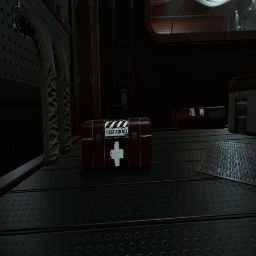FirstAidBox ,: (81, 103, 152, 174)
NitrogenTank ,: (171, 106, 226, 130)
